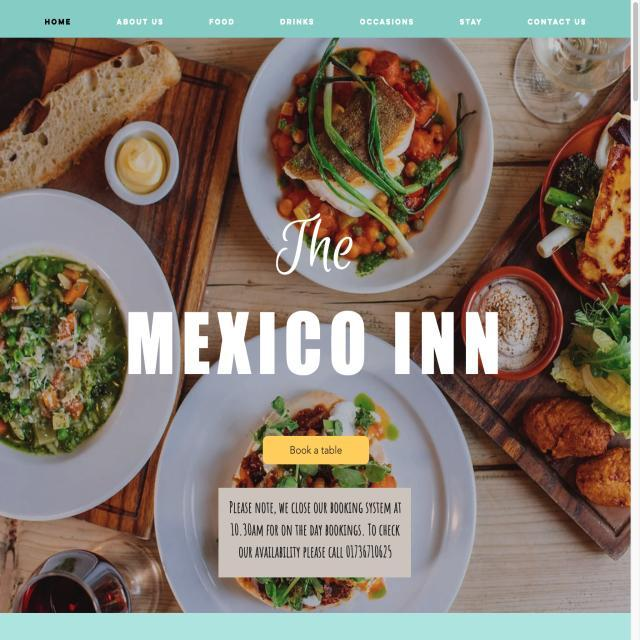button: (262, 434, 370, 467)
navigation bar: (31, 11, 596, 32)
text: (223, 496, 404, 566)
